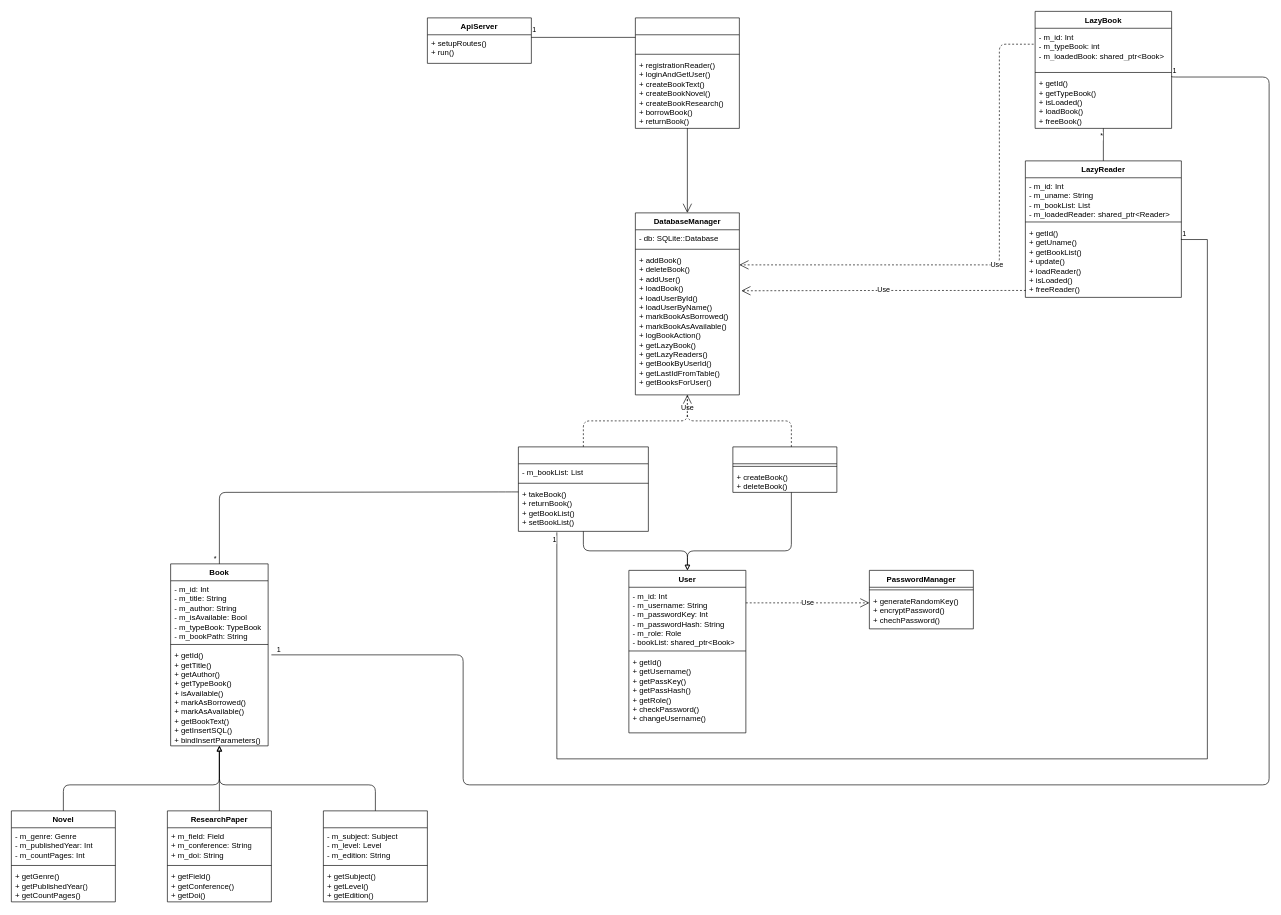
The diagram is 1281 pixels wide and 915 high, and some of its shapes have lost their labels. Each missing label, with the box of its shape:
Admin: (732, 446, 837, 492)
Controller: (635, 17, 739, 128)
Reader: (518, 446, 648, 531)
TextBook: (323, 810, 427, 902)
